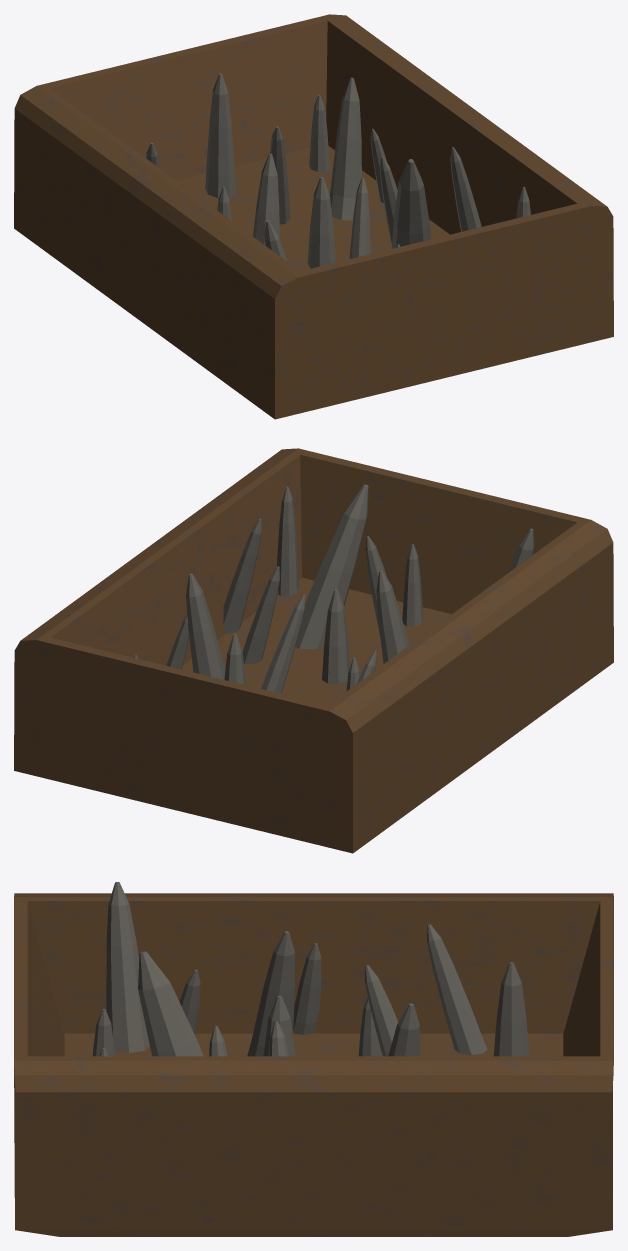
Rendered from DirtPlat(Spikes).fbx.
3 renders of one model, top to bottom at view 1: azimuth 30°, elevation 25°; view 2: azimuth 150°, elevation 25°; view 3: azimuth 270°, elevation 25°, orthographic. The views are drawn at different scales.
Visible parts, largest first — view 1: DirtPlat(spike); view 2: DirtPlat(spike); view 3: DirtPlat(spike).
Part boxes in pixels (left/top/right/bottom): DirtPlat(spike): left=14, top=14, right=613, bottom=419; DirtPlat(spike): left=14, top=448, right=613, bottom=853; DirtPlat(spike): left=14, top=882, right=613, bottom=1236.
Bounding box in the file's own units: 387 × 227 × 517.
Materials: 2 (1 with a texture image).
